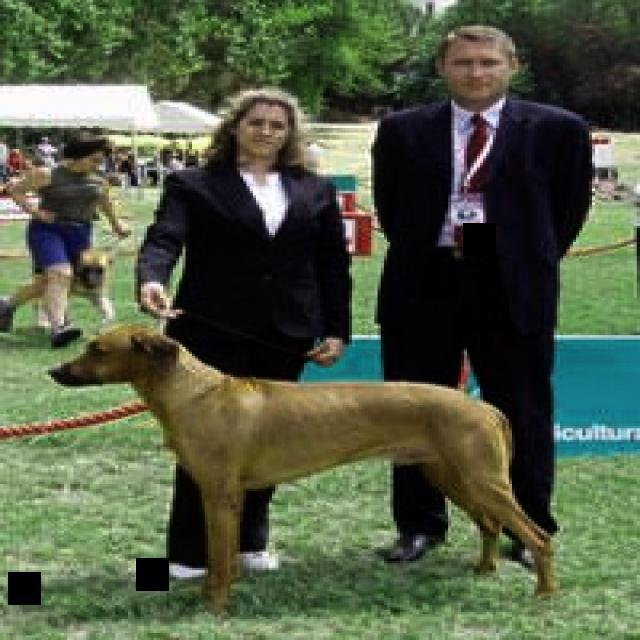adult_dog: (40, 318, 561, 615)
non-dog: (367, 20, 598, 574), (130, 84, 351, 578), (0, 132, 132, 347)
